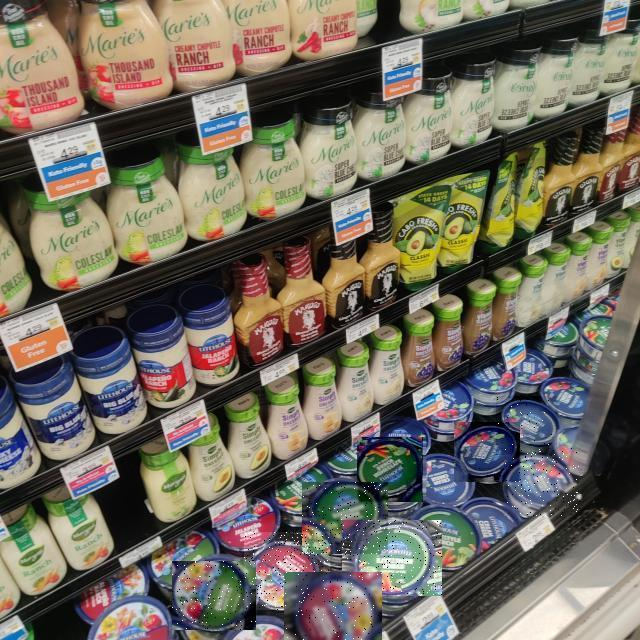Sauce: (342, 521, 442, 597), (245, 532, 331, 610), (284, 572, 382, 640), (302, 482, 388, 554), (172, 561, 256, 630), (504, 448, 580, 516), (358, 437, 426, 502), (454, 422, 520, 482), (497, 396, 559, 455)
